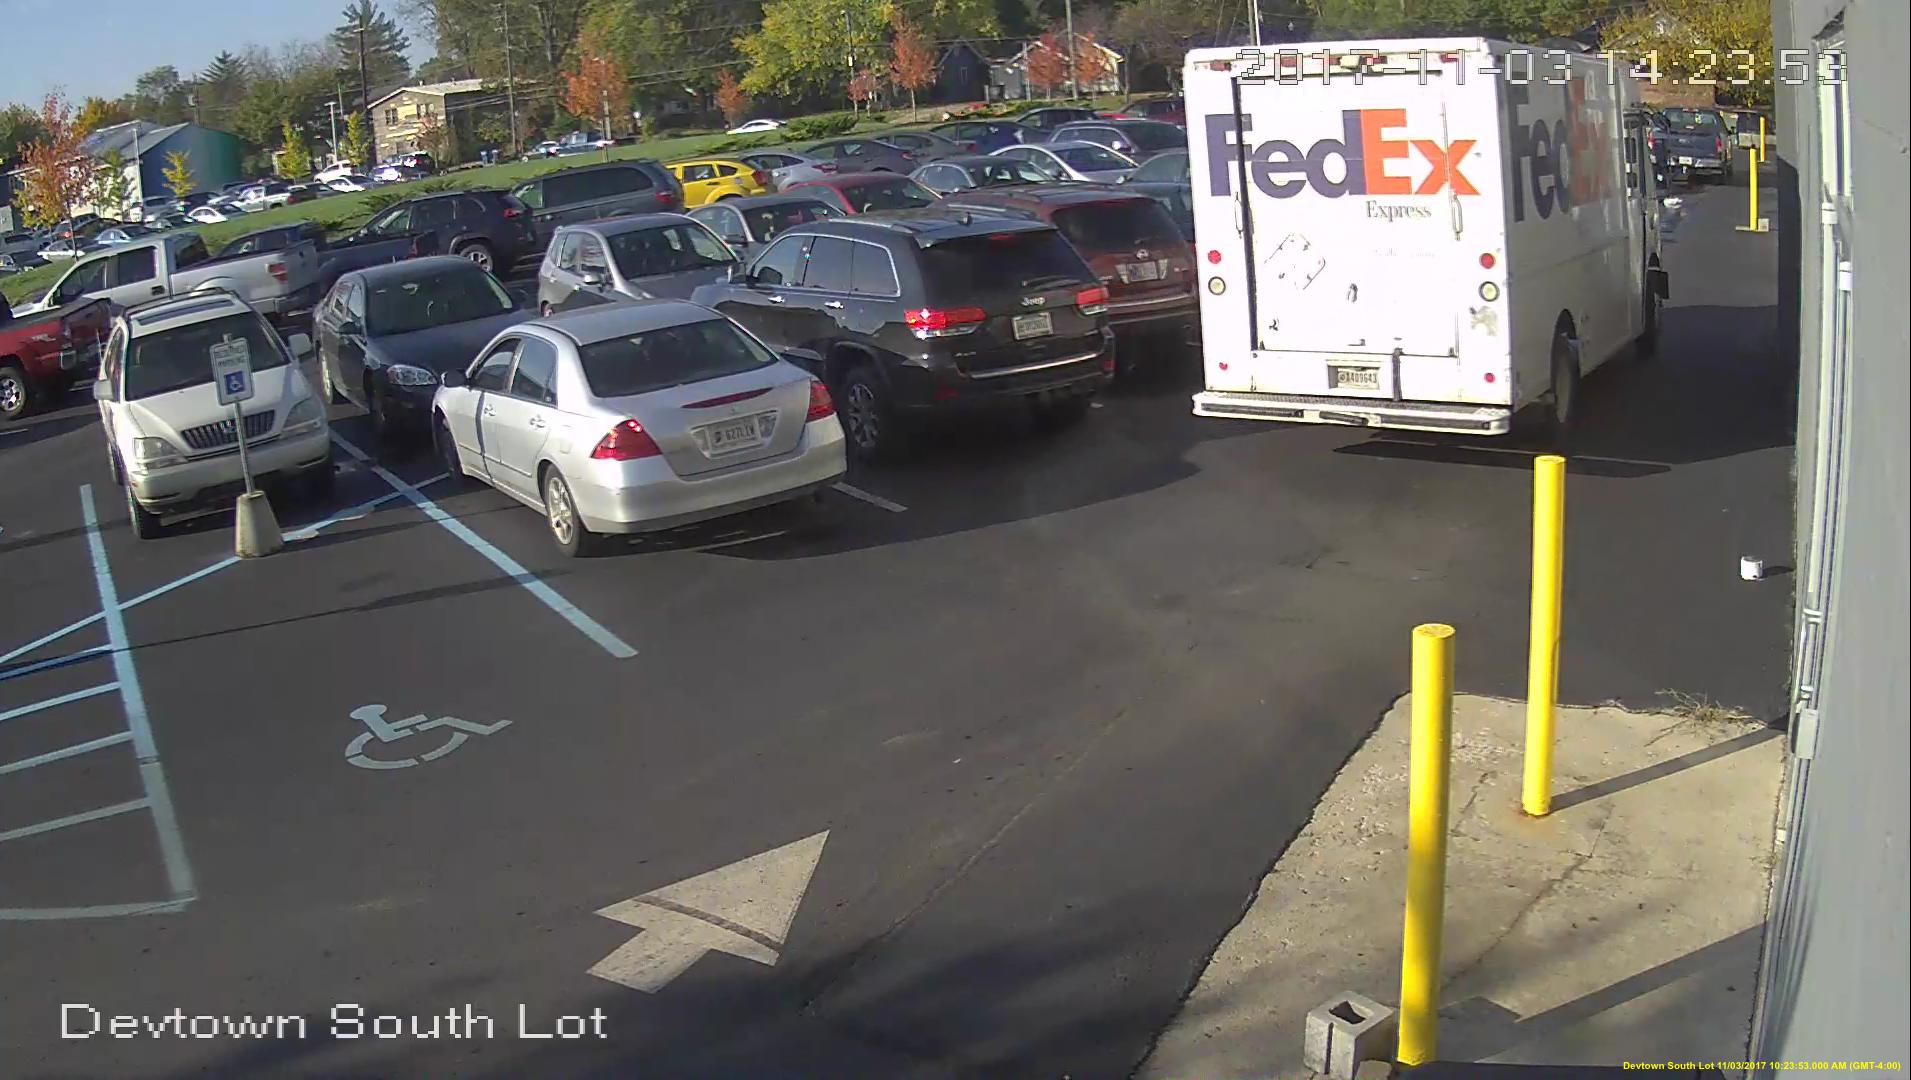fedex_truck: (1173, 31, 1677, 444)
